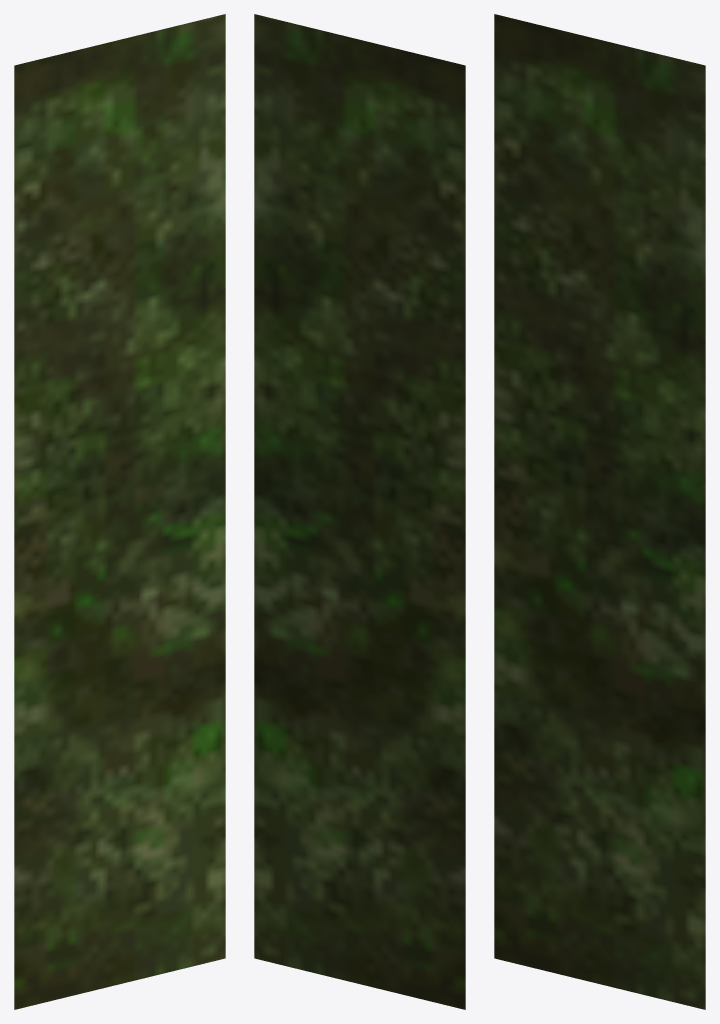
File: OVERHILL_A_01_OBJECT134.fbx
3 views of the same model, side by side, from view 1: azimuth 30°, elevation 25°; view 2: azimuth 150°, elevation 25°; view 3: azimuth 330°, elevation 25° (orthographic).
Parts seen in each view (by area): view 1: OVERHILL_A_01_OBJECT134; view 2: OVERHILL_A_01_OBJECT134; view 3: OVERHILL_A_01_OBJECT134.
Boxes of the visible parts, x1,y1,x2,y2 form: OVERHILL_A_01_OBJECT134: (14, 14, 225, 1009); OVERHILL_A_01_OBJECT134: (254, 14, 465, 1009); OVERHILL_A_01_OBJECT134: (494, 14, 705, 1009).
Bounding box in the file's own units: 7377 × 31529 × 0.00514.
1 material, 1 textured.
